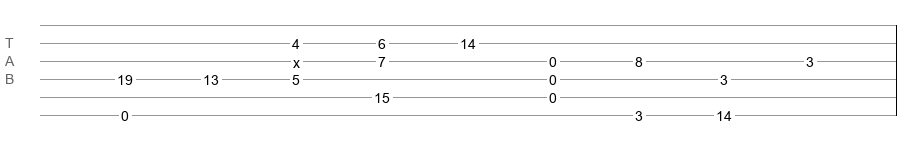0: (121, 108, 129, 118), (549, 72, 557, 82), (549, 90, 557, 100), (549, 54, 557, 64)
13: (203, 72, 219, 82)
14: (460, 36, 476, 46), (716, 108, 732, 118)
15: (374, 90, 390, 100)
19: (117, 72, 133, 82)
3: (635, 108, 643, 118), (720, 72, 728, 82), (806, 54, 814, 64)
4: (292, 36, 300, 46)
5: (292, 72, 300, 82)
6: (378, 36, 386, 46)
7: (378, 54, 386, 64)
8: (635, 54, 643, 64)
x: (293, 55, 300, 63)
